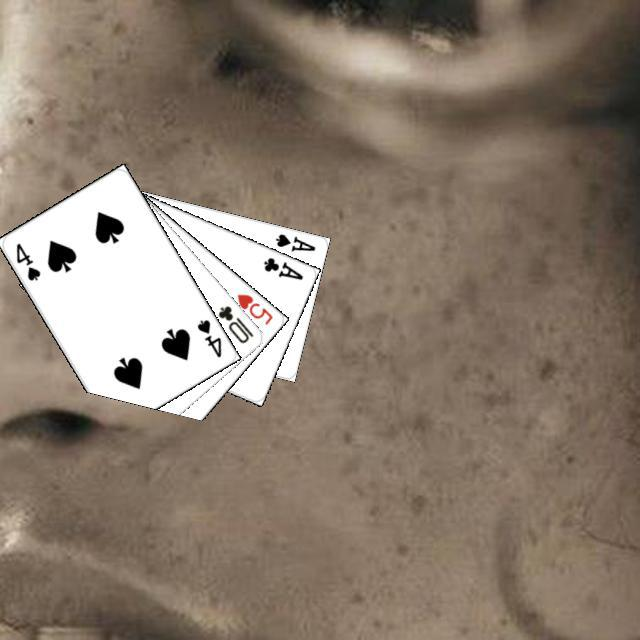10c: (213, 301, 255, 345)
4s: (192, 314, 223, 359), (11, 238, 42, 283)
5h: (232, 289, 274, 326)
Ac: (258, 252, 305, 282)
As: (271, 229, 317, 253)
